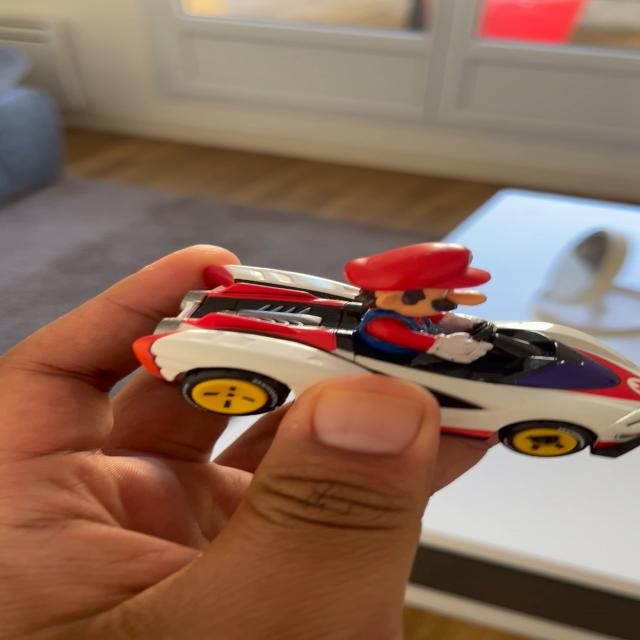mario: (142, 238, 640, 461)
